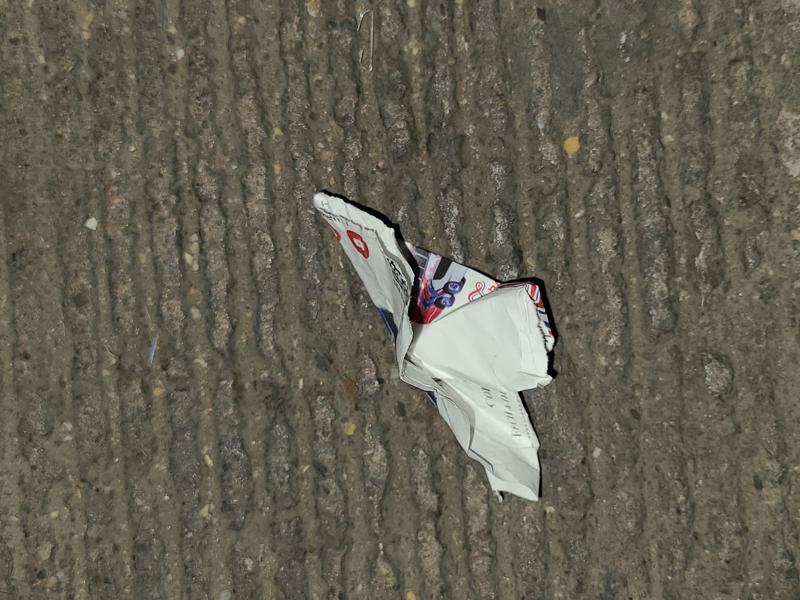papel: (311, 192, 558, 503)
